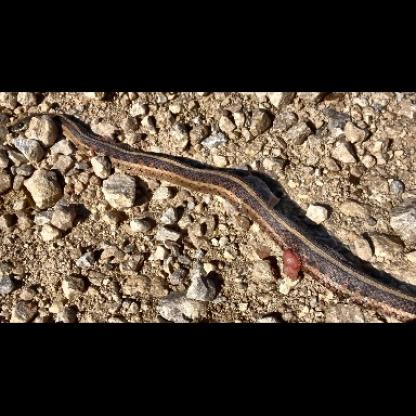Snake: (13, 109, 416, 314)
